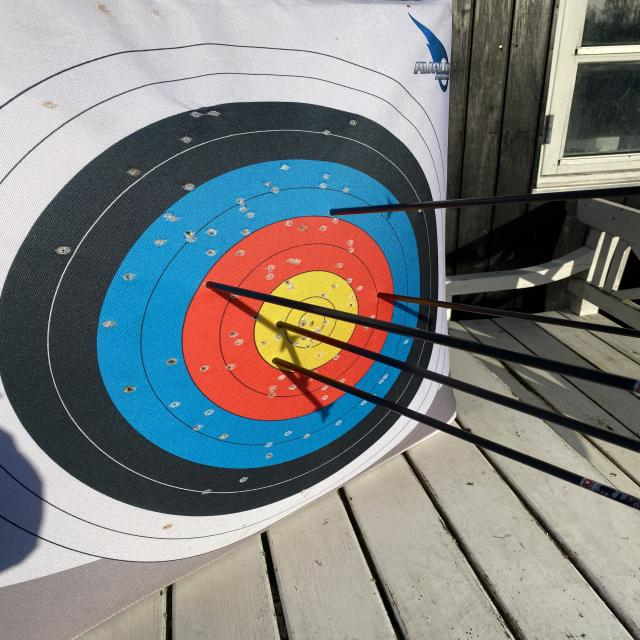Arrow_Blue: (322, 200, 351, 223)
Arrow_Red: (368, 286, 399, 310), (192, 271, 226, 292)
Arrow_Yellow: (271, 316, 299, 339), (266, 350, 295, 370)
